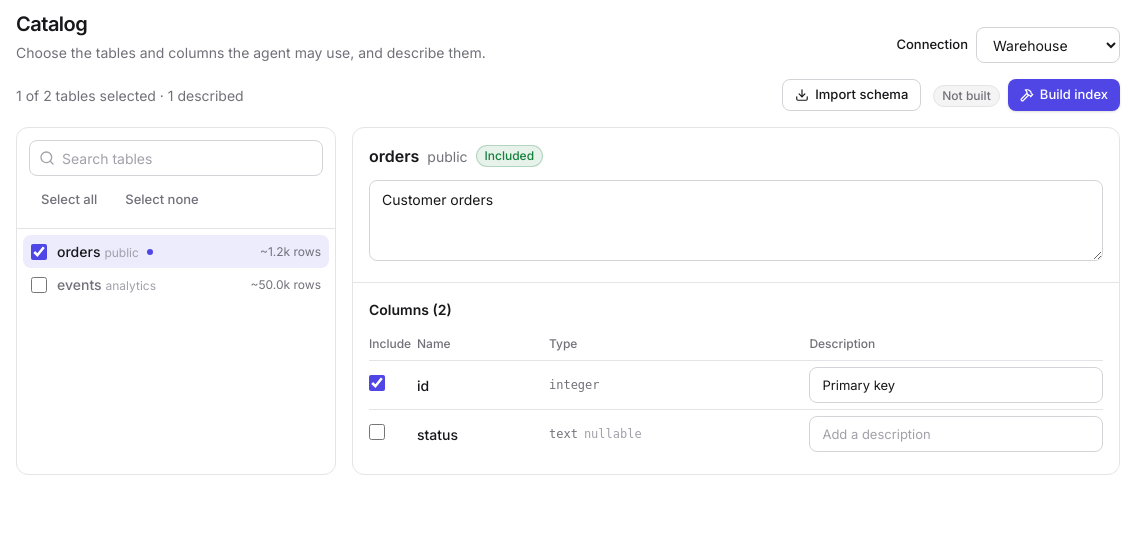
Test: table list and stats › selects all and none, warning when nothing is selected
Expected: the checkbox named "Include public.orders" is shown, [31,244,47,260]
Step 1. Click the button "Select all" → {"x": 69, "y": 200}, box [29,184,109,216]
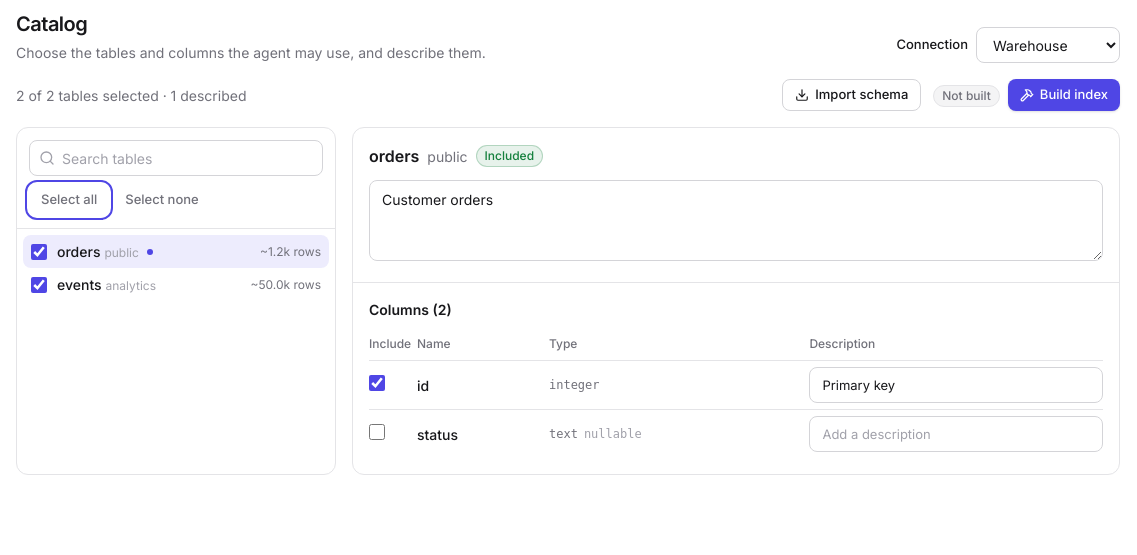
Step 2. Click the button "Select none" → {"x": 162, "y": 200}, box [113,184,211,216]
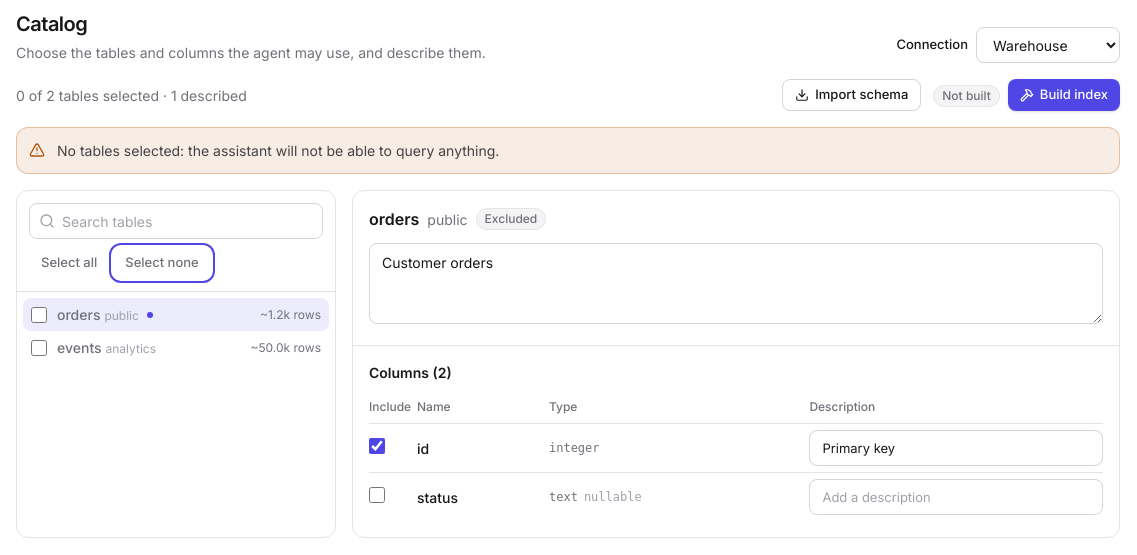
Now the text "No tables selected" is shown, box [57,142,499,159]
